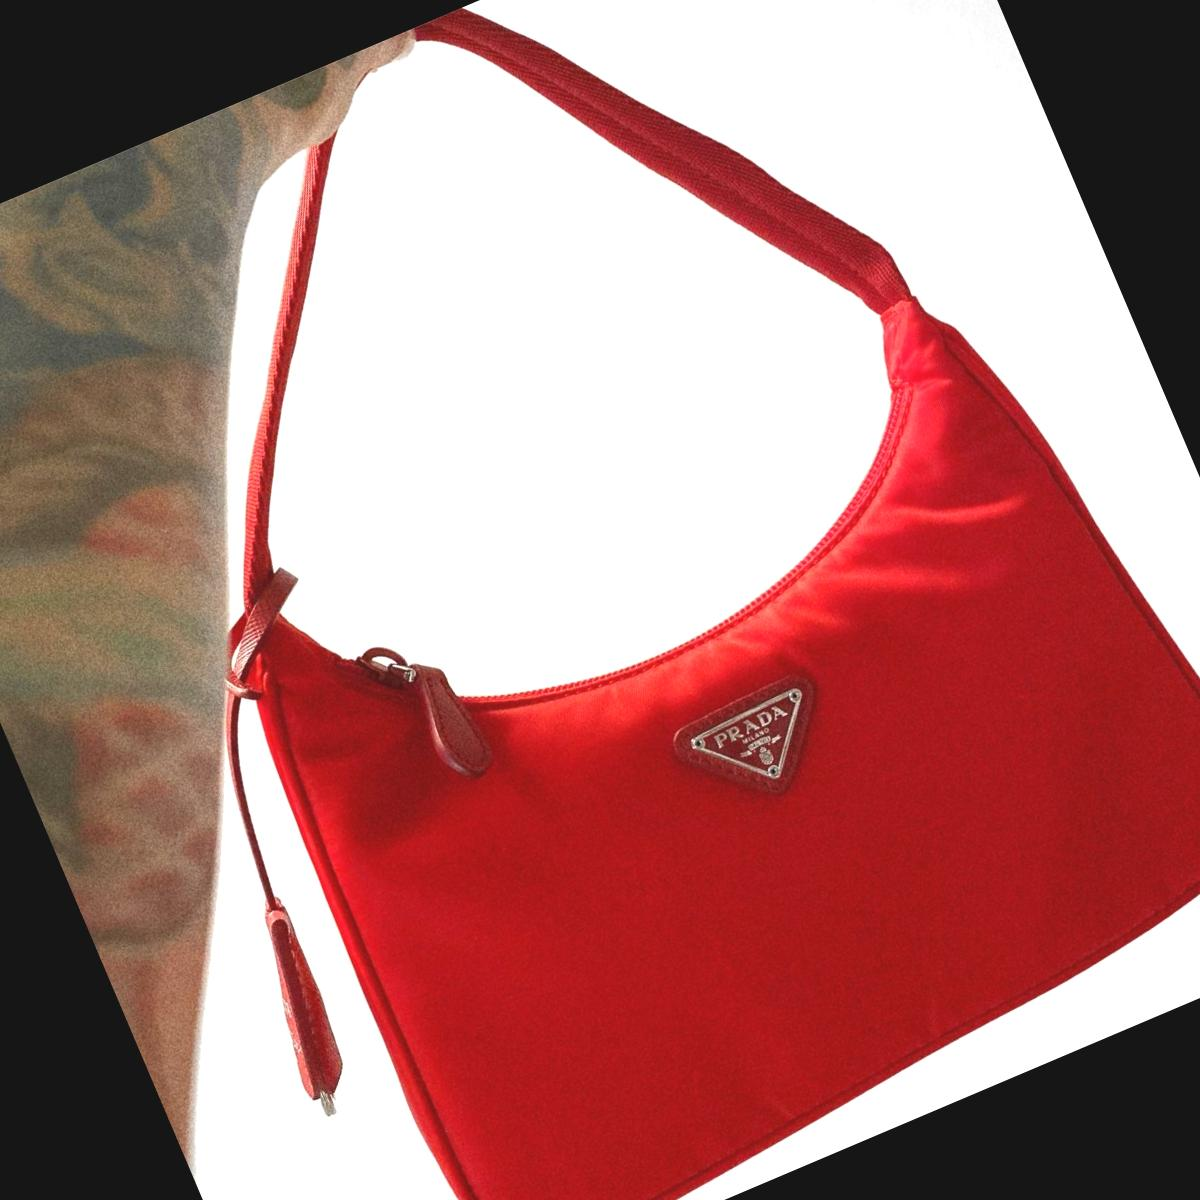PRADA: (684, 684, 827, 804)
